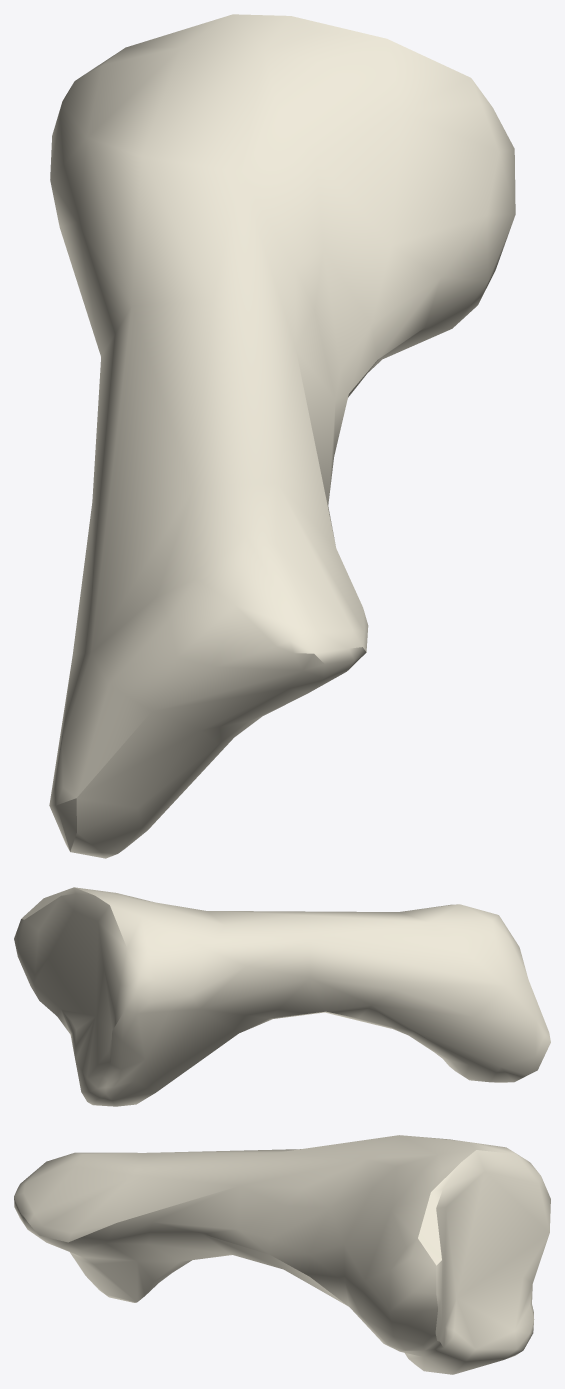
File: fma32638_fj3321.glb
3 views of the same model, one above another, from view 1: azimuth 30°, elevation 25°; view 2: azimuth 150°, elevation 25°; view 3: azimuth 270°, elevation 25° (orthographic). The views are drawn at different scales.
Parts seen in each view (by area): view 1: FMA32638_FJ3321; view 2: FMA32638_FJ3321; view 3: FMA32638_FJ3321.
Boxes of the visible parts, box(x1,y1,x2,y2) form: FMA32638_FJ3321: box(49, 14, 515, 858); FMA32638_FJ3321: box(14, 887, 550, 1106); FMA32638_FJ3321: box(14, 1135, 550, 1374).
Bounding box in the file's own units: 0.0216 × 0.0132 × 0.024.
